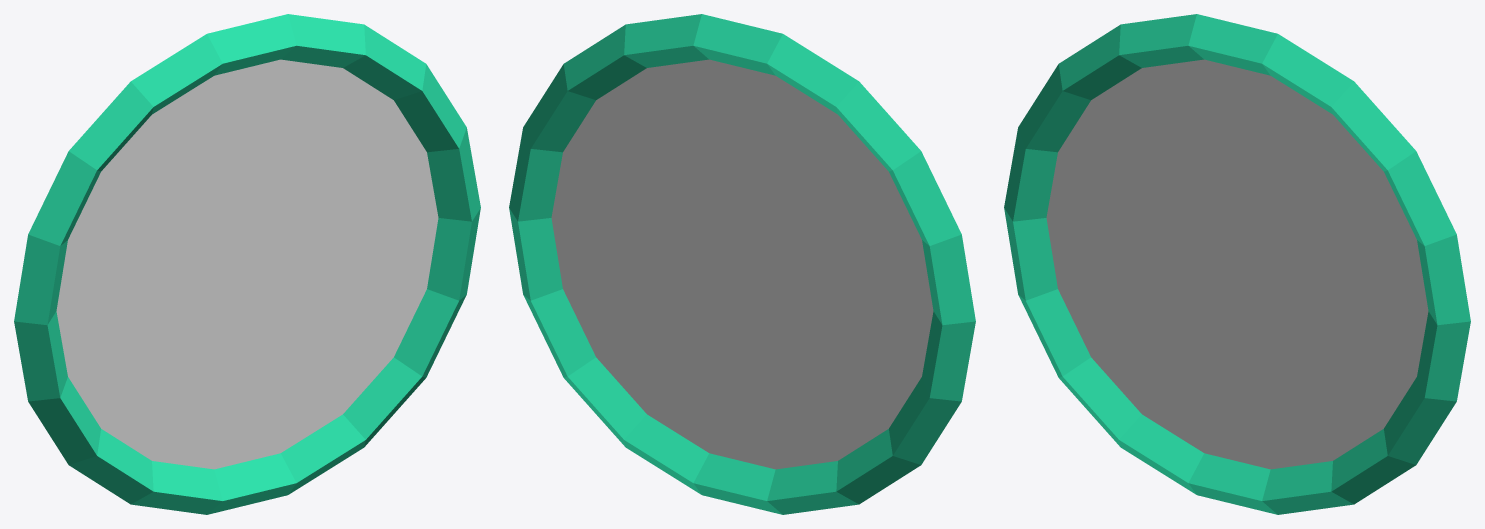
File: WantedTokenGreen.glb
The picture shows the model from 3 angles, left to right: view 1: azimuth 30°, elevation 25°; view 2: azimuth 150°, elevation 25°; view 3: azimuth 330°, elevation 25°; orthographic projection.
Visible parts, largest first — view 1: Torus.001, Torus; view 2: Torus.001, Torus; view 3: Torus.001, Torus.
Boxes of the visible parts, <box> form: Torus.001: <box>56,59,438,469</box>; Torus: <box>14,14,480,514</box>; Torus.001: <box>551,59,933,469</box>; Torus: <box>509,14,975,514</box>; Torus.001: <box>1046,59,1428,469</box>; Torus: <box>1004,14,1470,514</box>.
Bounding box in the file's own units: 2.2 × 2.17 × 0.2.
